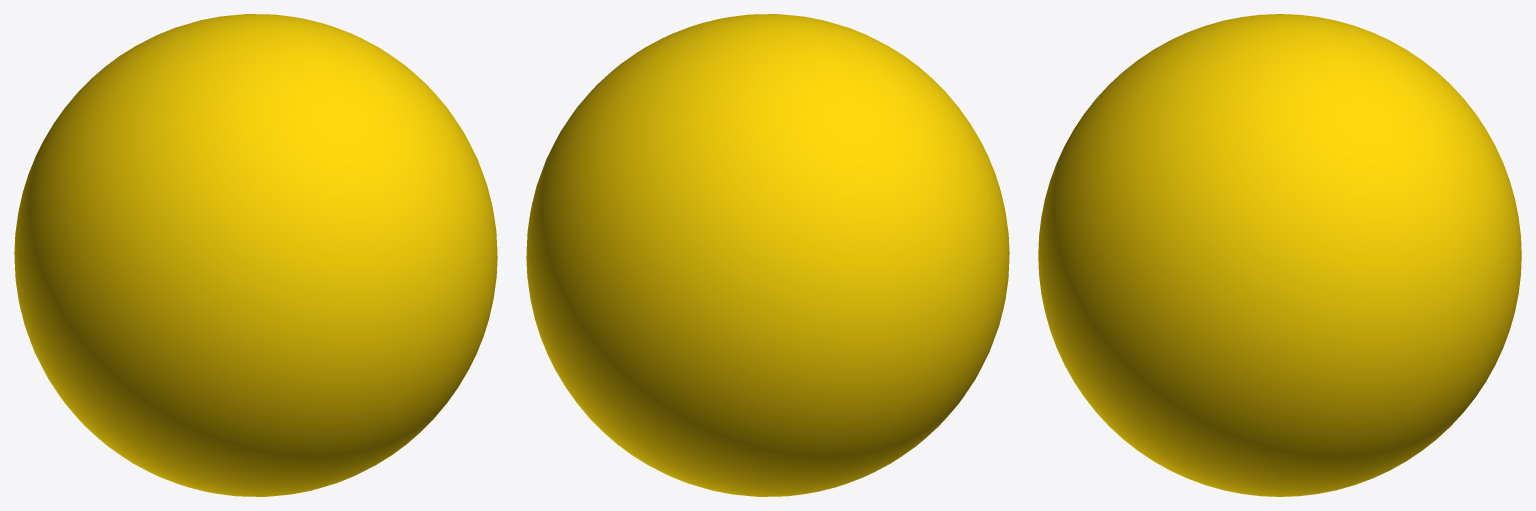
Rendered from ball-dotted-ffd700.glb.
3 views of the same model, side by side, from view 1: azimuth 30°, elevation 25°; view 2: azimuth 150°, elevation 25°; view 3: azimuth 270°, elevation 25° (orthographic).
Visible parts, largest first — view 1: ball; view 2: ball; view 3: ball.
Part boxes in pixels (x1,y1,x2,y2): ball: [14, 14, 497, 496]; ball: [526, 14, 1009, 496]; ball: [1038, 14, 1521, 496].
Bounding box in the file's own units: 0.0655 × 0.0655 × 0.0655.
